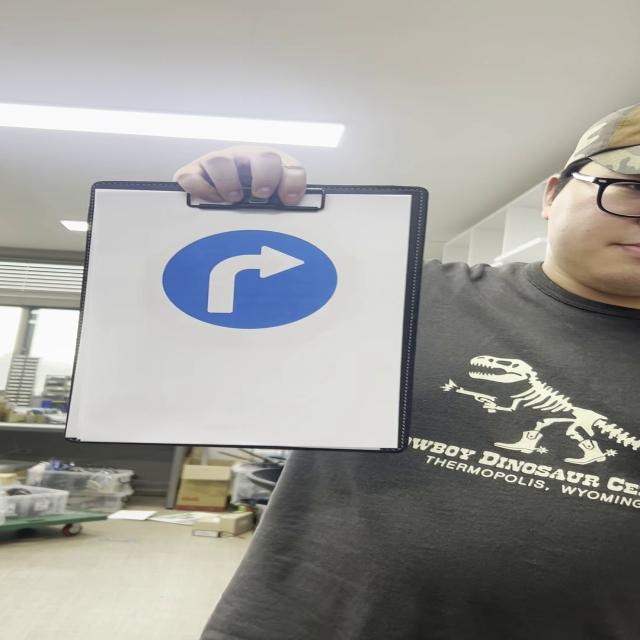right: (161, 231, 348, 331)
